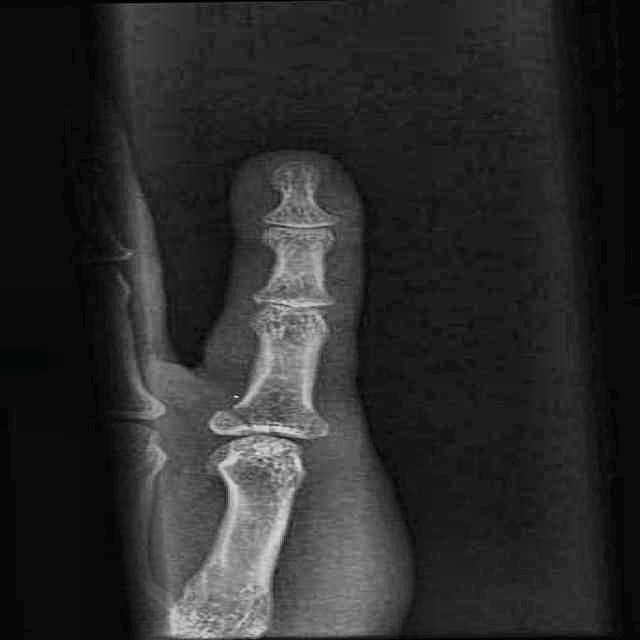Greenstick: (187, 393, 311, 450)
